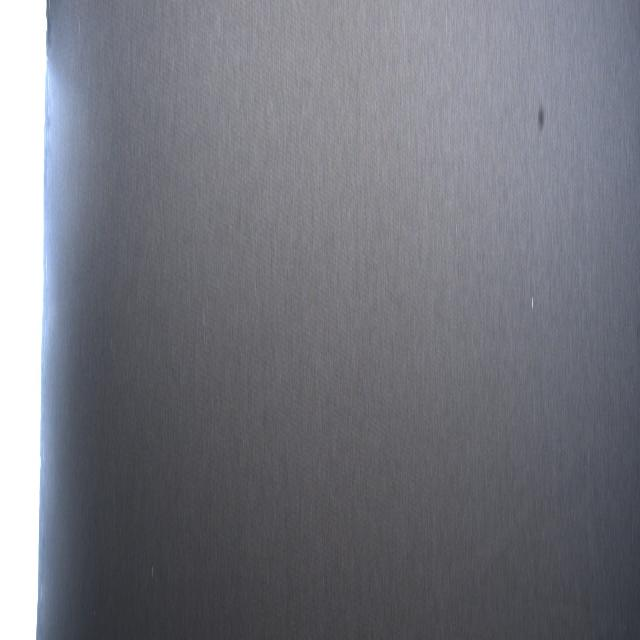crease: (471, 438, 598, 629)
whiteDefect: (531, 279, 535, 311), (150, 553, 154, 577)
